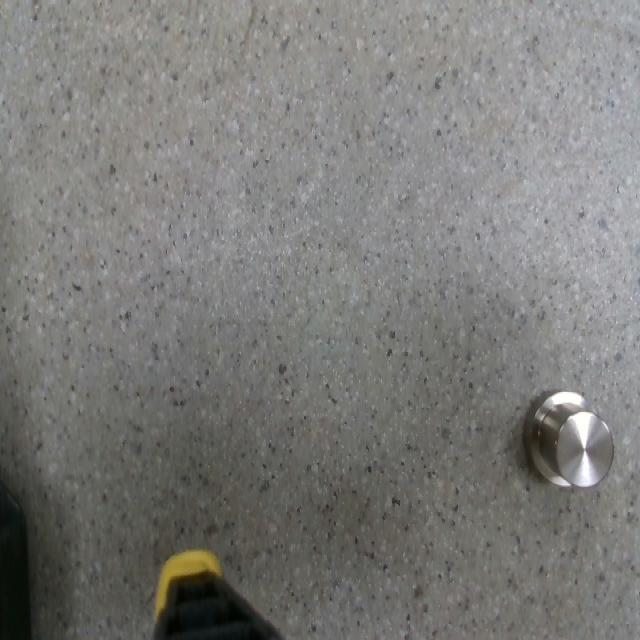sensor: (522, 388, 614, 488)
